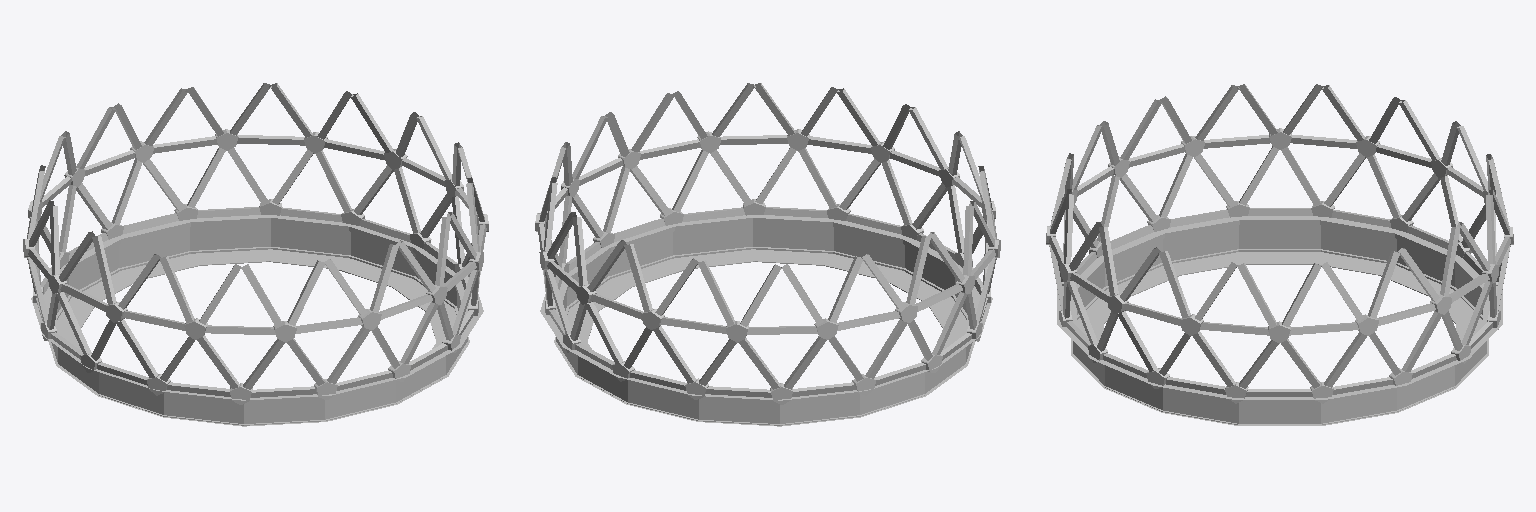
Rendered from Arq_Dome.obj.
The picture shows the model from 3 angles: view 1: azimuth 30°, elevation 25°; view 2: azimuth 150°, elevation 25°; view 3: azimuth 270°, elevation 25°; orthographic projection.
Parts seen in each view (by area): view 1: polySurface586; view 2: polySurface586; view 3: polySurface586.
Part boxes in pixels (bbox=[...]): polySurface586: bbox=[23, 83, 488, 426]; polySurface586: bbox=[535, 83, 1000, 426]; polySurface586: bbox=[1046, 84, 1513, 425].
Bounding box in the file's own units: 2855 × 1107 × 2855.